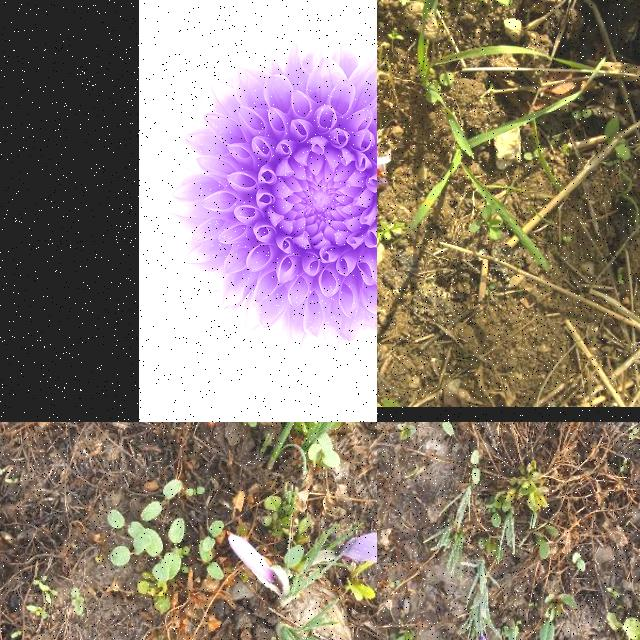flower: (224, 532, 284, 588), (337, 533, 377, 562)
